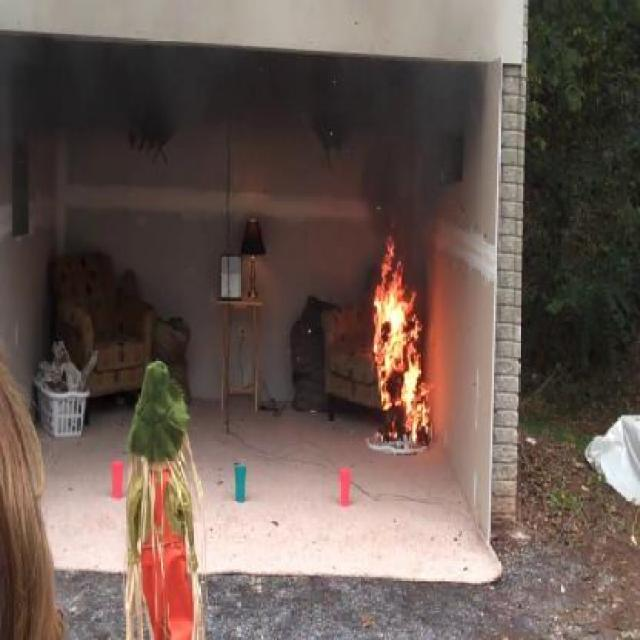fire: (358, 252, 440, 437)
smoke: (67, 22, 507, 215)
